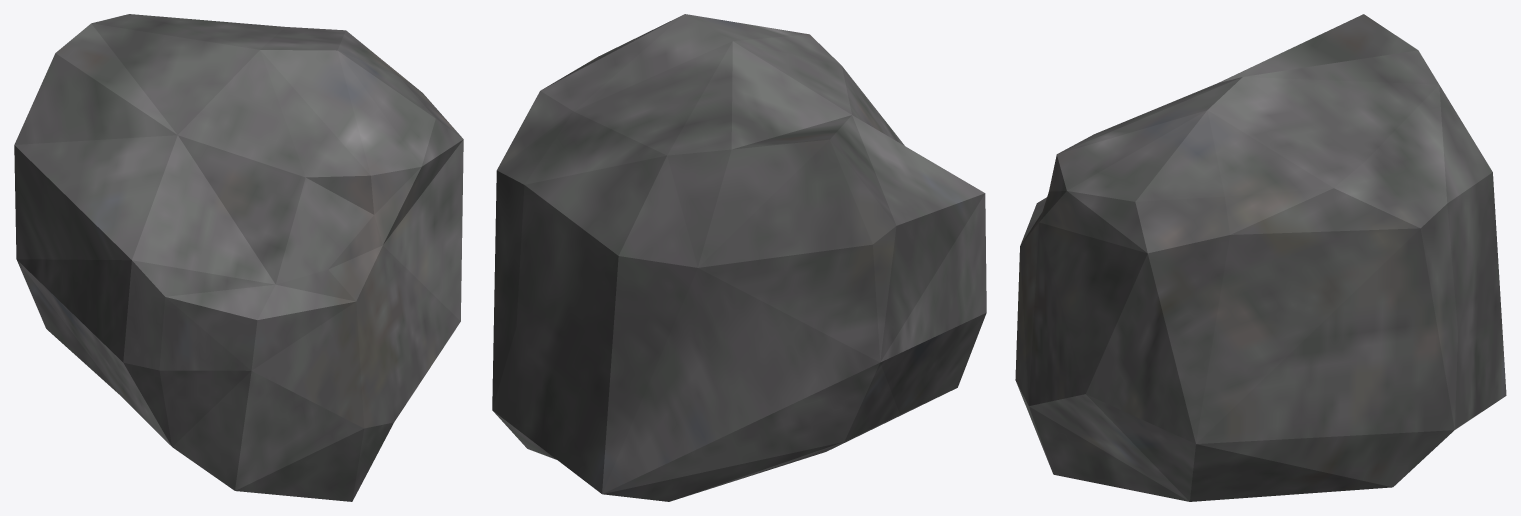
The model's file is Rock06.fbx.
3 renders of one model, left to right at view 1: azimuth 30°, elevation 25°; view 2: azimuth 150°, elevation 25°; view 3: azimuth 270°, elevation 25°, orthographic. The views are drawn at different scales.
Parts seen in each view (by area): view 1: SM_ENV_NATURE_Cave_Rock_S_03.mo; view 2: SM_ENV_NATURE_Cave_Rock_S_03.mo; view 3: SM_ENV_NATURE_Cave_Rock_S_03.mo.
Boxes of the visible parts, x1=… form: SM_ENV_NATURE_Cave_Rock_S_03.mo: x1=14, y1=14, x2=463, y2=501; SM_ENV_NATURE_Cave_Rock_S_03.mo: x1=492, y1=14, x2=986, y2=501; SM_ENV_NATURE_Cave_Rock_S_03.mo: x1=1015, y1=14, x2=1506, y2=501.
Size of the model in its own units: 59.85 by 60.75 by 68.01.
1 material, 1 textured.
